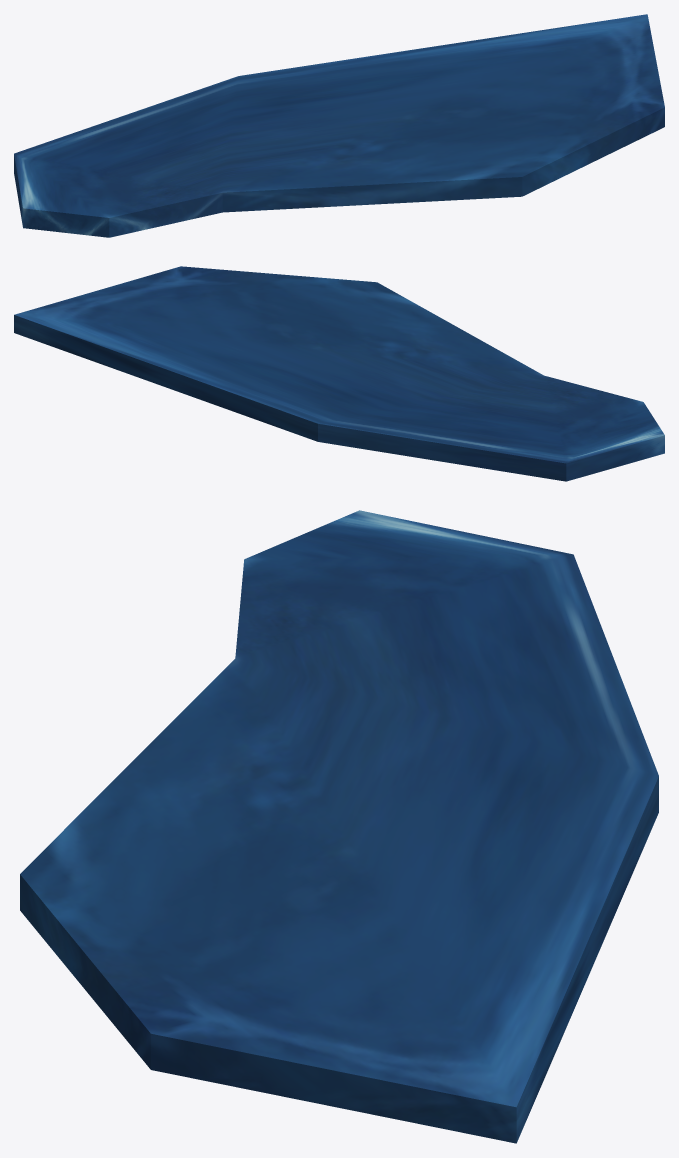
The model's file is FuBing03.FBX.
3 renders of one model, top to bottom at view 1: azimuth 30°, elevation 25°; view 2: azimuth 150°, elevation 25°; view 3: azimuth 270°, elevation 25°, orthographic. The views are drawn at different scales.
Visible parts, largest first — view 1: FuBing03; view 2: FuBing03; view 3: FuBing03.
Part boxes in pixels (bbox=[...]): FuBing03: bbox=[14, 14, 664, 237]; FuBing03: bbox=[14, 266, 664, 481]; FuBing03: bbox=[20, 510, 658, 1143].
Bounding box in the file's own units: 1220 × 34.56 × 552.
